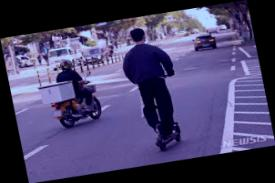nonhelmet: (113, 23, 191, 155)
